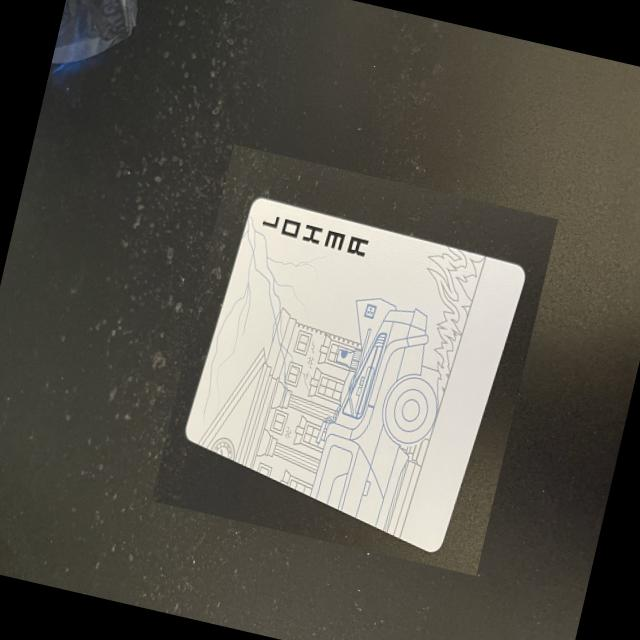Joker: (151, 143, 558, 575)
